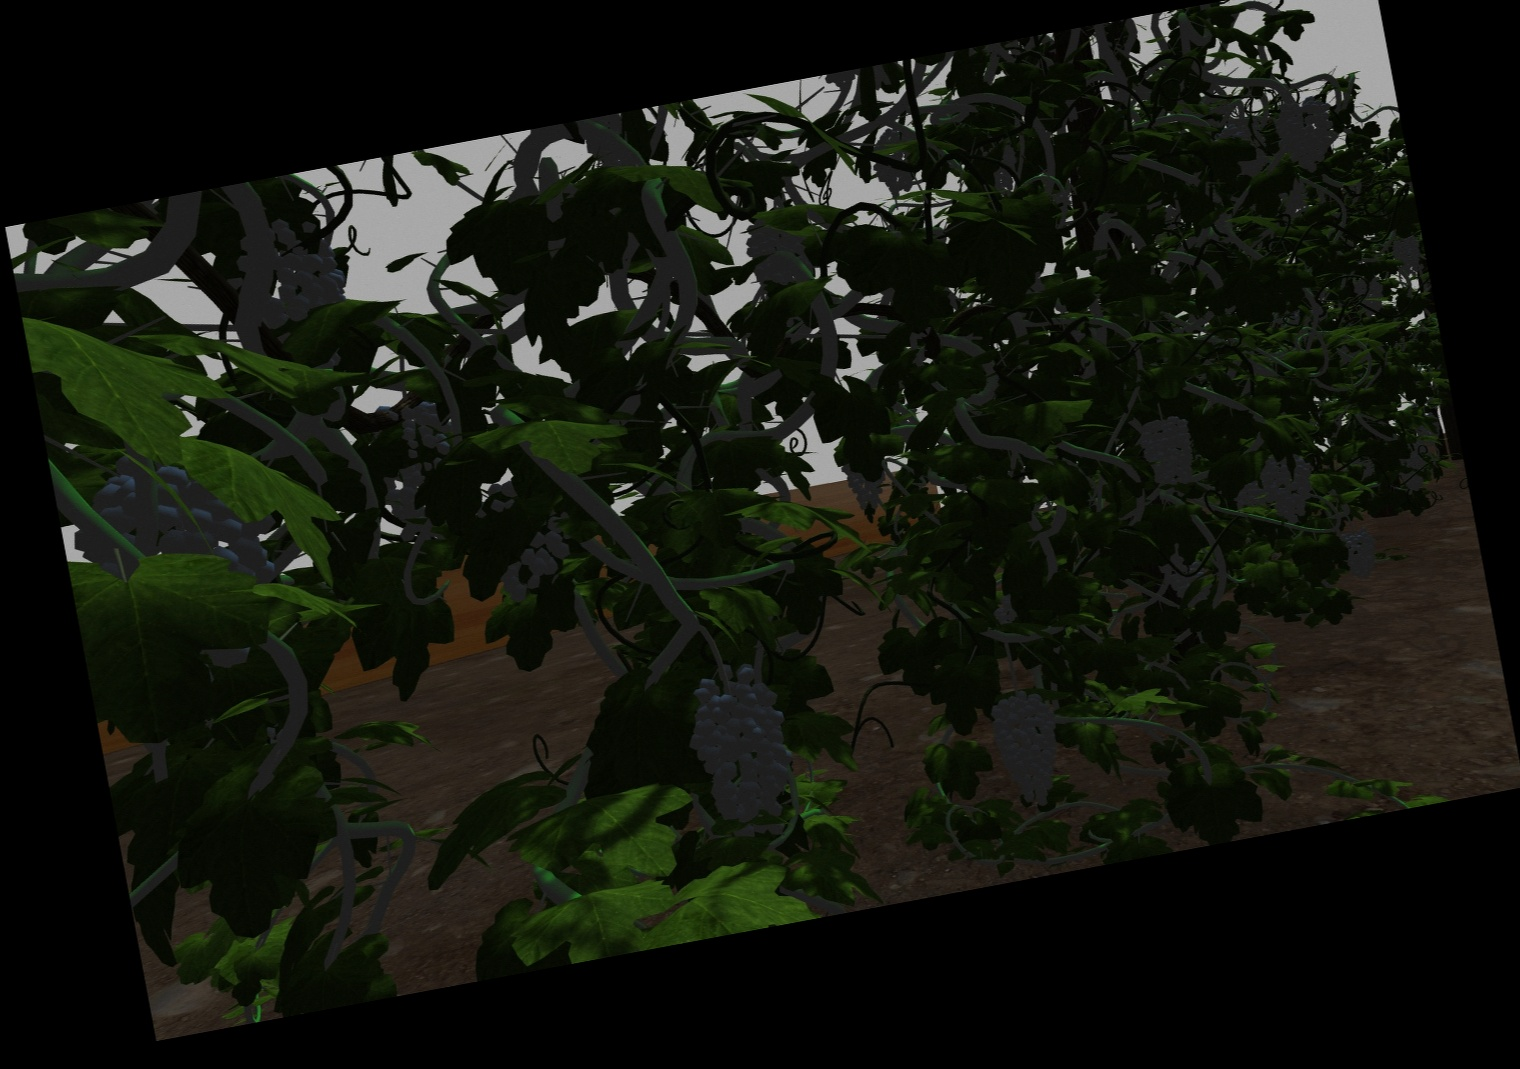grape: (74, 470, 256, 594), (691, 664, 787, 824), (988, 692, 1064, 810), (264, 219, 340, 322), (1272, 98, 1338, 174), (1259, 452, 1315, 524), (1142, 416, 1194, 485), (747, 221, 797, 286), (401, 401, 447, 472), (1342, 532, 1378, 578), (1390, 233, 1421, 272)
